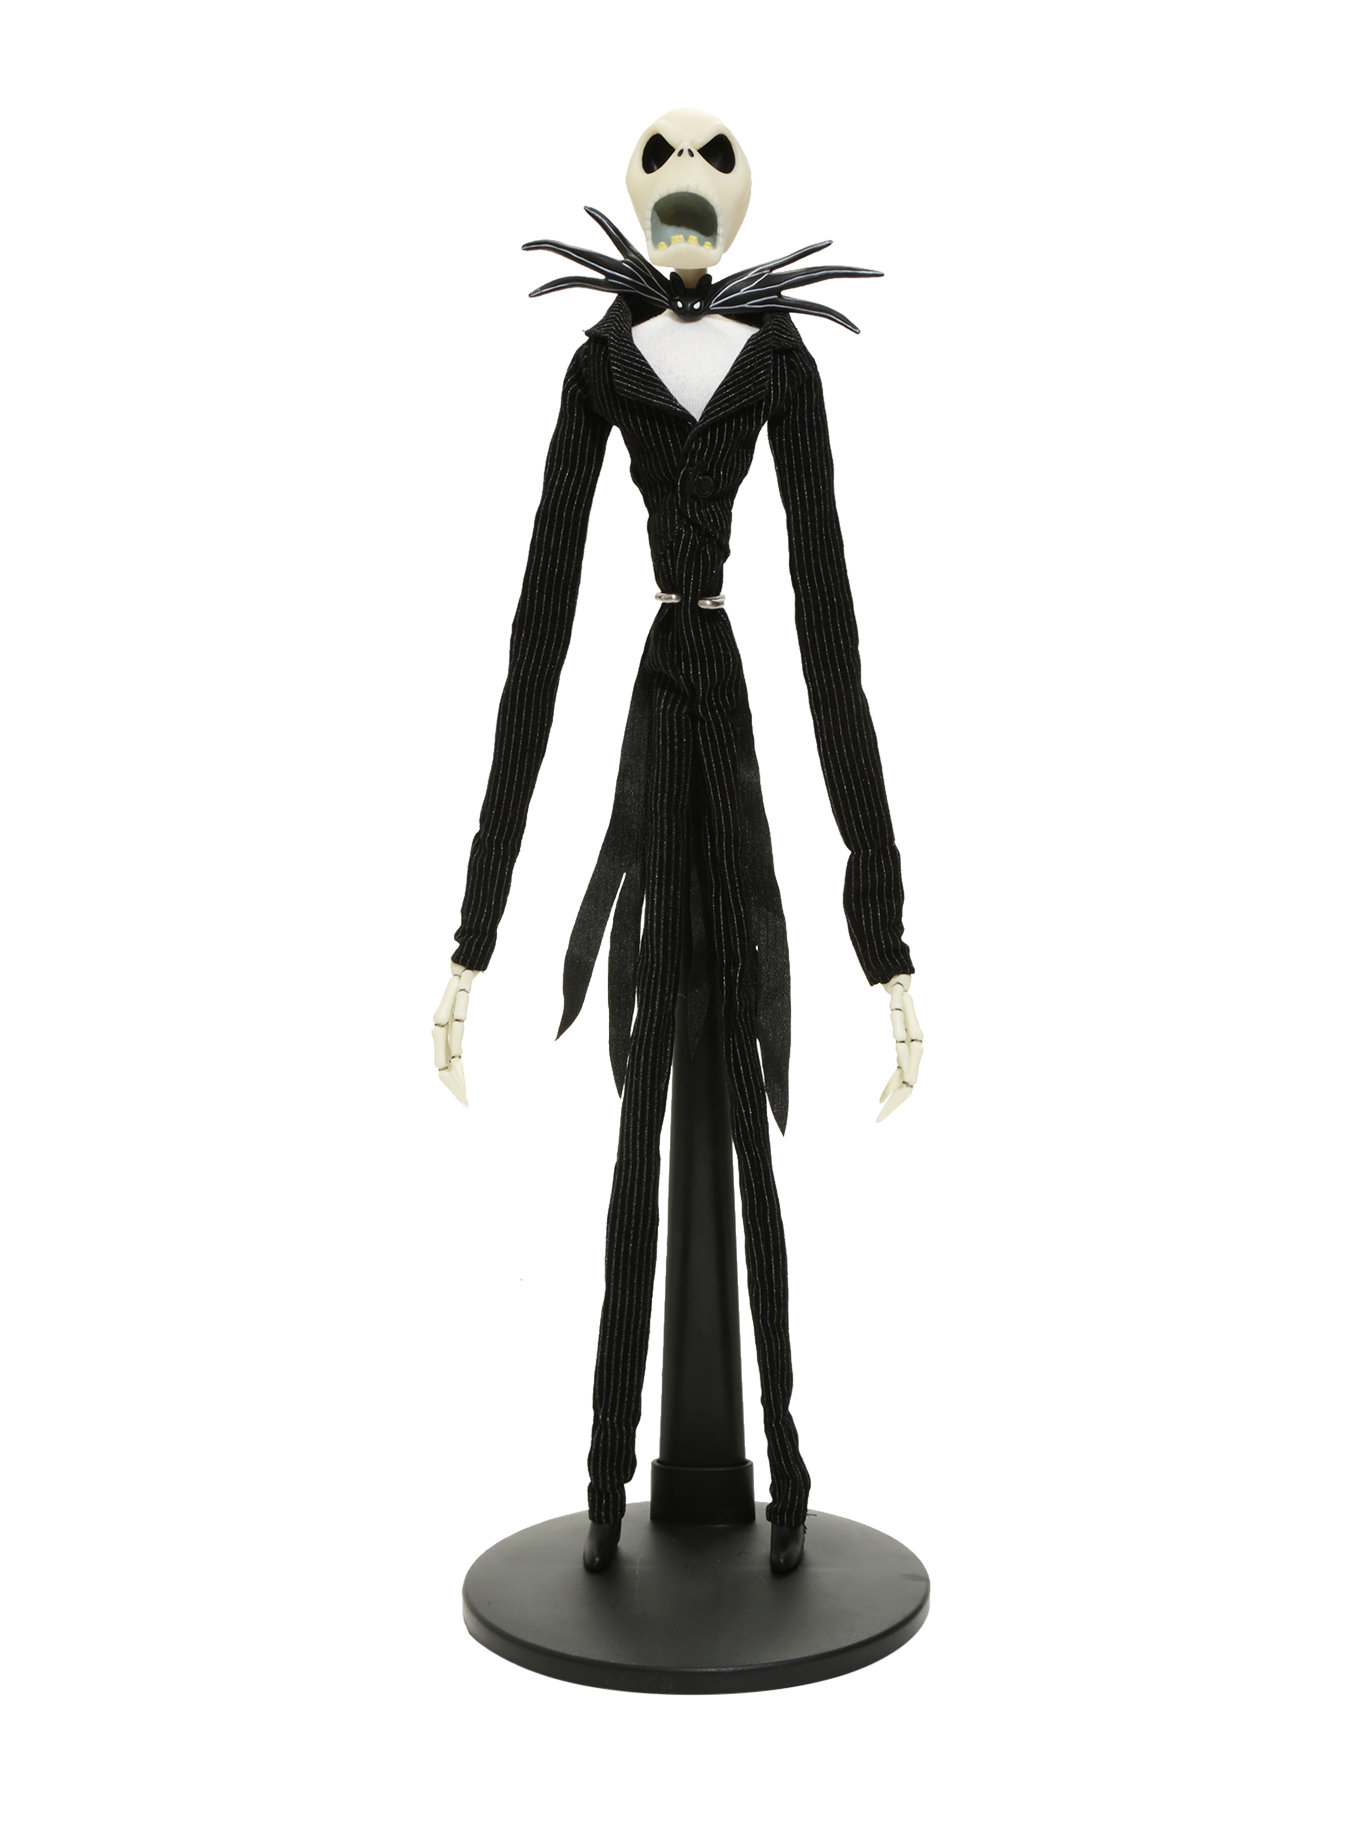Jack Skellington: (429, 107, 931, 1580)
